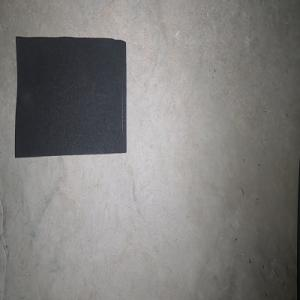PaintChip: (14, 36, 126, 158)
